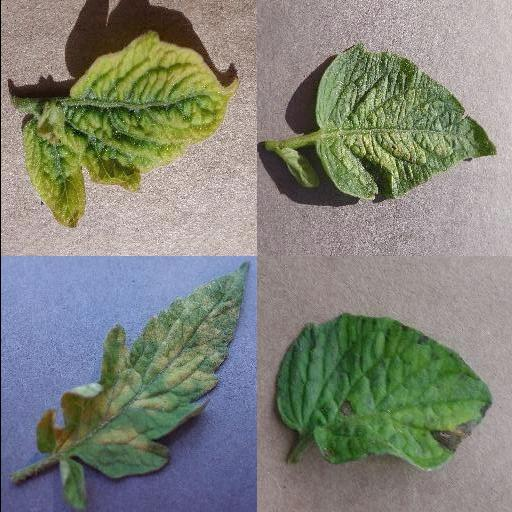Early Blight: (269, 312, 495, 470)
Leaf Mold: (35, 262, 251, 510)
Spider Mites: (316, 46, 496, 200)
Yellow Leaf Curl Virus: (19, 33, 239, 229)
